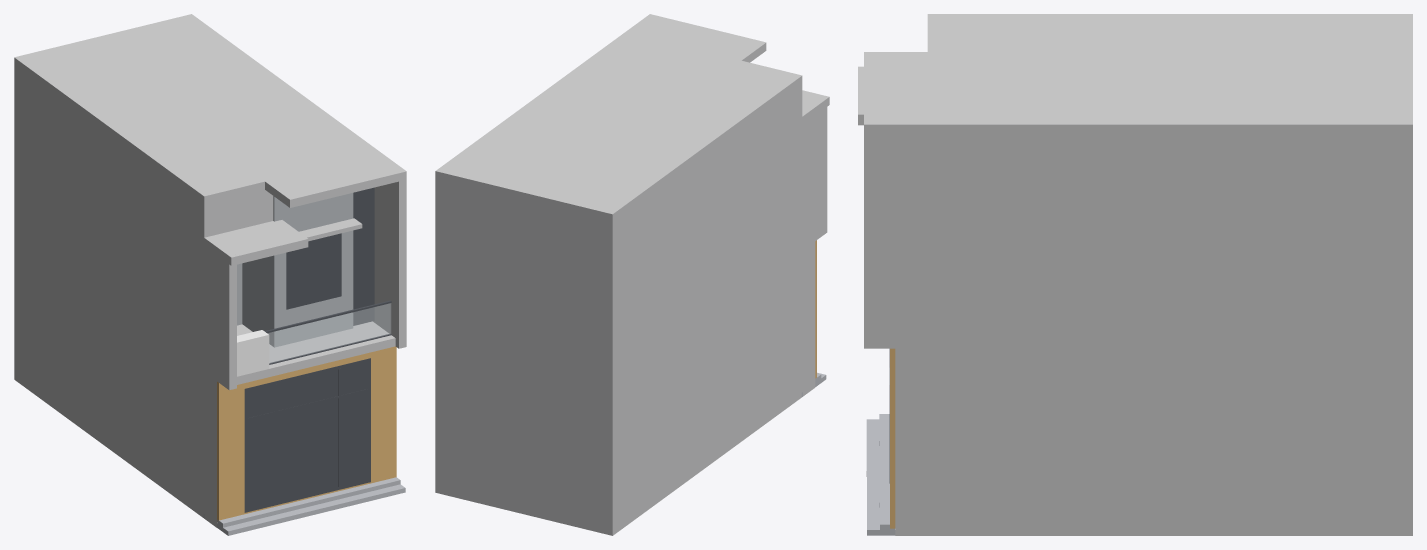
Rendered from urban-house2.glb.
3 renders of one model, left to right at view 1: azimuth 30°, elevation 25°; view 2: azimuth 150°, elevation 25°; view 3: azimuth 270°, elevation 25°, orthographic. The views are drawn at different scales.
Visible parts, largest first — view 1: House_Core_Body_0, GF_Main_Door_Dark_Casing_4, F2_White_Blade_L_11, F2_Center_Grey_Wall_20, GF_Gold_Marble_Facade_3, F2_White_Blade_R_12, Roof_Right_High_Beam_35, F2_Glass_Balcony_Railing_15, F2_Balcony_Floor_Slab_13, F2_Center_Win_Frame_21, F2_Right_Slit_Frame_26, Roof_Left_Canopy_Beam_31 (+4 smaller); view 2: House_Core_Body_0, F2_White_Blade_L_11, Roof_Right_High_Beam_35; view 3: House_Core_Body_0, F2_White_Blade_R_12, Roof_Right_High_Beam_35, Entrance_Step_1_1, Entrance_Step_2_2, GF_Gold_Marble_Facade_3.
Part boxes in pixels (x1,y1,x2,y2): House_Core_Body_0: [14, 14, 380, 527]; GF_Main_Door_Dark_Casing_4: [244, 358, 370, 512]; F2_White_Blade_L_11: [171, 213, 236, 390]; F2_Center_Grey_Wall_20: [242, 193, 353, 347]; GF_Gold_Marble_Facade_3: [217, 346, 396, 521]; F2_White_Blade_R_12: [373, 172, 406, 348]; Roof_Right_High_Beam_35: [265, 153, 406, 207]; F2_Glass_Balcony_Railing_15: [268, 303, 390, 363]; F2_Balcony_Floor_Slab_13: [237, 321, 395, 384]; F2_Center_Win_Frame_21: [286, 233, 341, 309]; F2_Right_Slit_Frame_26: [353, 187, 374, 325]; Roof_Left_Canopy_Beam_31: [212, 220, 308, 265]; House_Core_Body_0: [435, 32, 815, 535]; F2_White_Blade_L_11: [769, 96, 827, 274]; Roof_Right_High_Beam_35: [625, 14, 766, 62]; House_Core_Body_0: [895, 14, 1412, 535]; F2_White_Blade_R_12: [864, 124, 927, 348]; Roof_Right_High_Beam_35: [864, 52, 928, 124]; Entrance_Step_1_1: [866, 419, 895, 535]; Entrance_Step_2_2: [879, 414, 894, 529]; GF_Gold_Marble_Facade_3: [890, 348, 895, 528].
Size of the model in its own units: 4.5 by 7.8 by 9.53.
